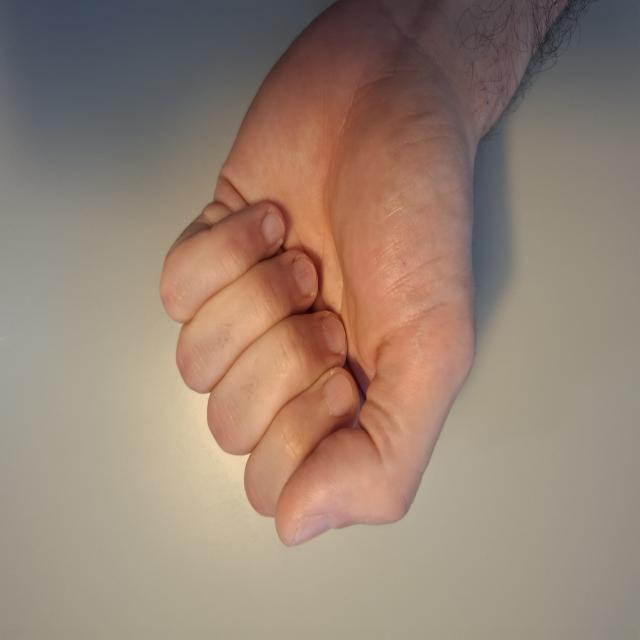glove_off: (156, 0, 504, 551)
